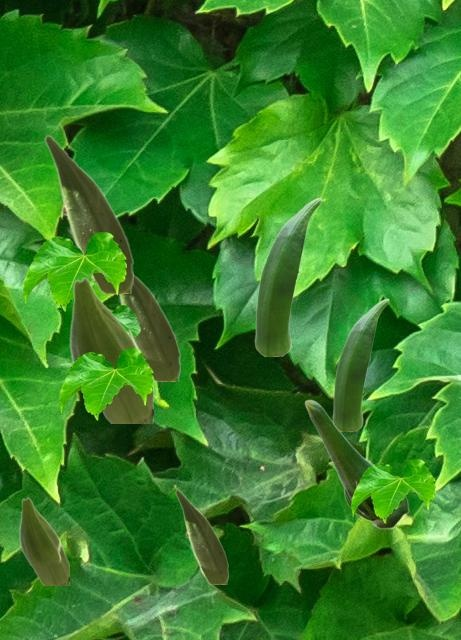okra: (44, 134, 132, 292), (304, 399, 408, 528), (69, 277, 152, 422), (254, 197, 321, 355), (332, 298, 388, 430), (118, 272, 179, 380), (175, 489, 227, 583), (19, 497, 68, 584)
